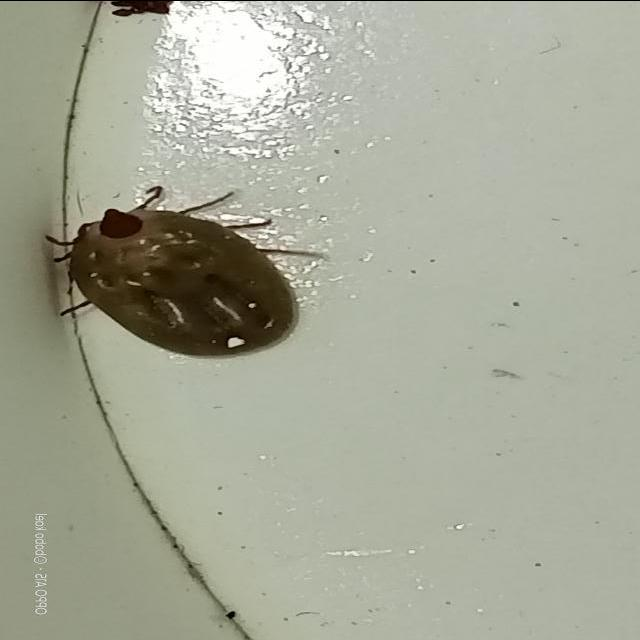Rhipicephalus Sanguineus-F-Fed: (45, 184, 330, 358)
